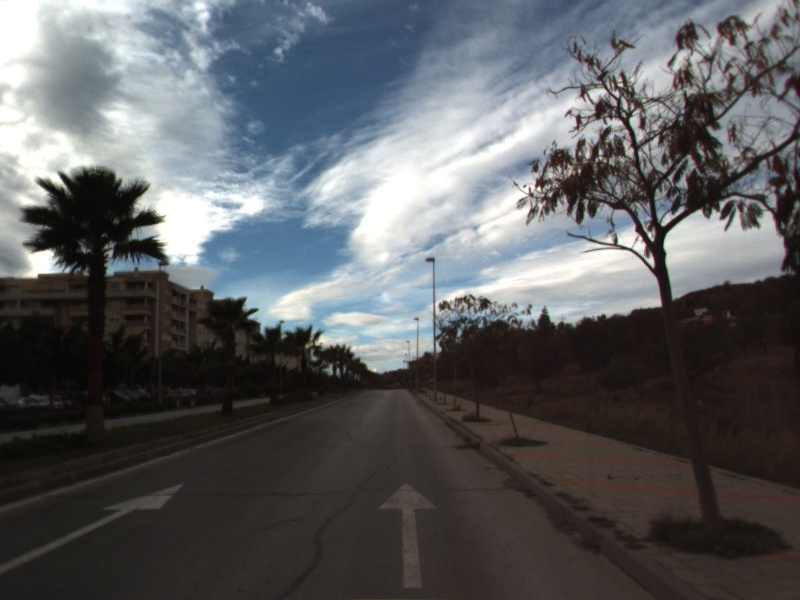STRAIGHT: (1, 481, 186, 575), (376, 480, 440, 590)
